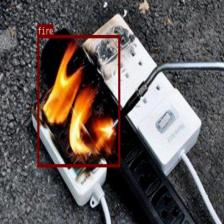fire: (37, 34, 120, 166)
